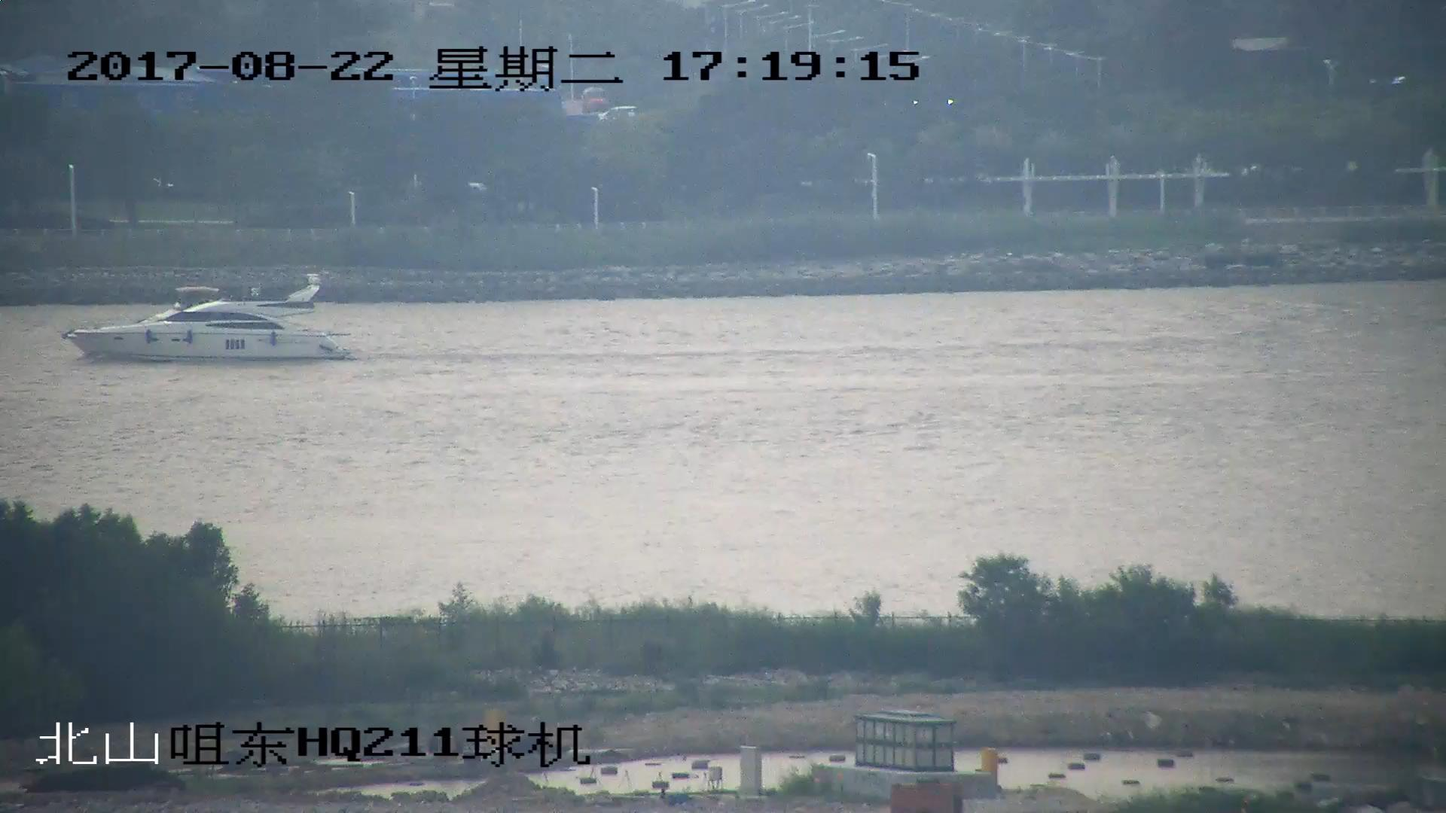passenger ship: (61, 274, 349, 360)
